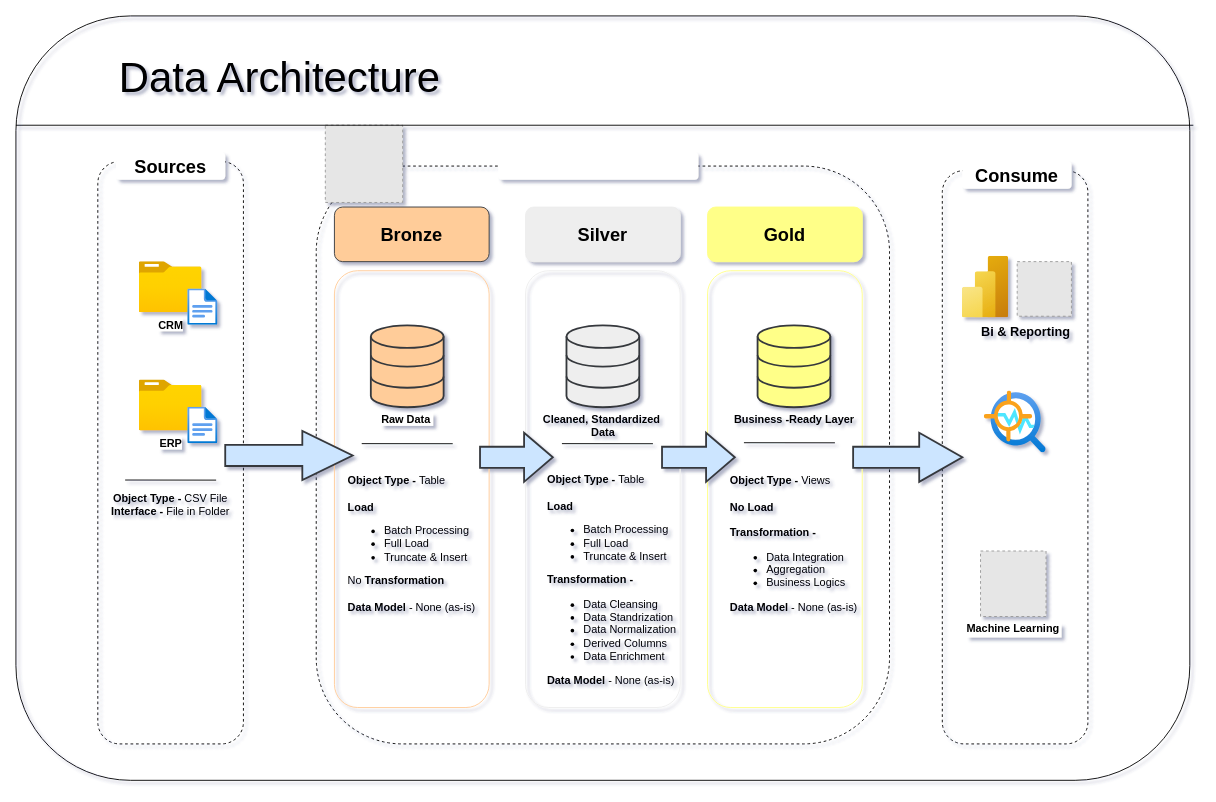
This 1216x802 diagram has some shape labels left out. Grey dashed boxes stand in for pictures. The centre of each missing label's shape, as x and y in pixels:
"Ad - HOC SQL Queries" goes at [1015,421].
"Data Warehouse" goes at [598,165].
